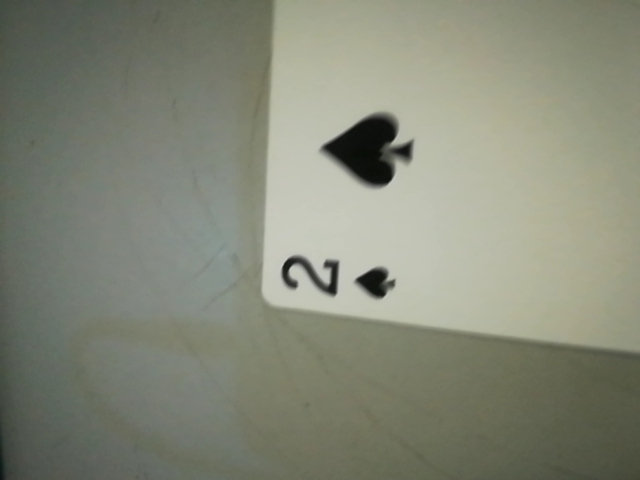ht 2: (260, 240, 417, 320)
